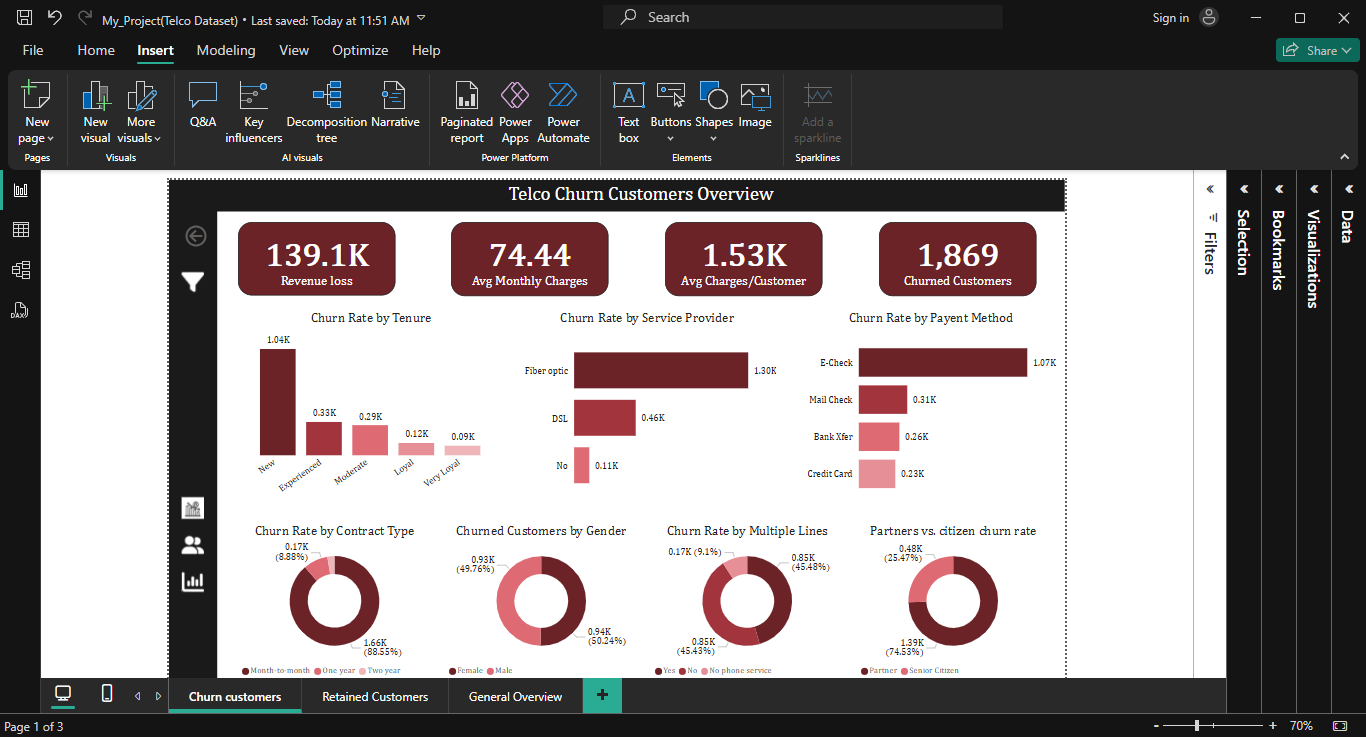

This screenshot's page, from the dashboard's own definition file:
{"tool":"powerbi","page":{"name":"Churn customers","canvas":[1280,720],"ordinal":0},"visuals":[{"type":"card","title":"Overall Charges","fields":{"Values":["Measure.Monthly Churned Revenue loss"]},"box":[97.9,60.5,225,105.1],"z":0},{"type":"actionButton","box":[0,448.6,68.6,40],"z":0,"group":"g1"},{"type":"shape","box":[0,0,68.9,720.6],"z":1000},{"type":"actionButton","box":[0,501.5,68.6,40],"z":1000,"group":"g1"},{"type":"textbox","box":[68.9,0,1211.1,45.4],"z":2000},{"type":"actionButton","box":[0,554.3,68.6,40],"z":2000,"group":"g1"},{"type":"card","title":"Overall Charges","fields":{"Values":["Measure.Total Churned Customers"]},"box":[1014.3,60,225,105.7],"z":3000},{"type":"card","title":"Overall Charges","fields":{"Values":["Measure.Avg Total Charges"]},"box":[708.8,60,225,105.7],"z":4000},{"type":"card","title":"Overall Charges","fields":{"Values":["Measure.Avg Monthly Charges"]},"box":[403.4,60,225,105.7],"z":5000},{"type":"donutChart","title":"Churn Rate by Contract Type","fields":{"Category":["Telco-Customer-Churn.Contract"],"Y":["Count(Telco-Customer-Churn.customerID)"]},"box":[98.6,491.4,275.7,228.6],"z":6000},{"type":"donutChart","title":"Partners vs. citizen churn rate","fields":{"Category":["Telco-Customer-Churn.Demographic"],"Y":["Count(Telco-Customer-Churn.customerID)"]},"box":[983.5,491,275,229],"z":7000},{"type":"clusteredBarChart","title":"Churn Rate by Service Provider","fields":{"Y":["CountNonNull(Telco-Customer-Churn.customerID)"],"Category":["Telco-Customer-Churn.InternetService"]},"box":[493.6,187.1,380,281.4],"z":8000},{"type":"donutChart","title":" Churned Customers by Gender","fields":{"Y":["Count(Telco-Customer-Churn.customerID)"],"Category":["Telco-Customer-Churn.gender"]},"box":[394,491,275,229],"z":9000},{"type":"donutChart","title":"Churn Rate  by Multiple Lines ","fields":{"Y":["Count(Telco-Customer-Churn.customerID)"],"Category":["Telco-Customer-Churn.MultipleLines"]},"box":[688.8,491,275,229],"z":10000},{"type":"clusteredColumnChart","title":"Churn Rate  by Tenure","fields":{"Category":["Telco-Customer-Churn.Tenure Group"],"Y":["Count(Telco-Customer-Churn.customerID)"]},"box":[98.6,187.1,380,281.4],"z":11000},{"type":"clusteredBarChart","title":"Churn Rate by Payent Method","fields":{"Y":["CountNonNull(Telco-Customer-Churn.customerID)"],"Category":["Telco-Customer-Churn.AbbreviatedPayment"]},"box":[898.6,187.1,380,281.4],"z":12000},{"type":"actionButton","box":[18.6,60,50,40],"z":13000},{"type":"actionButton","box":[0,125.7,68.6,40],"z":14000},{"type":"group","id":"g1","title":"Page Navigation","box":[0,448.6,68.6,145.7],"z":15000}]}

Visuals, with their boxes on the page's 1280x720 design canvas (x1, y1, x2, y2). These are canvas units, not pixel positions in the 1366x737 screenshot, which may show the page scaled, cropped or inside an application window:
"Overall Charges" card: {"left": 98, "top": 60, "right": 323, "bottom": 166}
actionButton: {"left": 0, "top": 449, "right": 69, "bottom": 489}
shape: {"left": 0, "top": 0, "right": 69, "bottom": 721}
actionButton: {"left": 0, "top": 502, "right": 69, "bottom": 542}
textbox: {"left": 69, "top": 0, "right": 1280, "bottom": 45}
actionButton: {"left": 0, "top": 554, "right": 69, "bottom": 594}
"Overall Charges" card: {"left": 1014, "top": 60, "right": 1239, "bottom": 166}
"Overall Charges" card: {"left": 709, "top": 60, "right": 934, "bottom": 166}
"Overall Charges" card: {"left": 403, "top": 60, "right": 628, "bottom": 166}
"Churn Rate by Contract Type" donutChart: {"left": 99, "top": 491, "right": 374, "bottom": 720}
"Partners vs. citizen churn rate" donutChart: {"left": 984, "top": 491, "right": 1258, "bottom": 720}
"Churn Rate by Service Provider" clusteredBarChart: {"left": 494, "top": 187, "right": 874, "bottom": 468}
" Churned Customers by Gender" donutChart: {"left": 394, "top": 491, "right": 669, "bottom": 720}
"Churn Rate  by Multiple Lines " donutChart: {"left": 689, "top": 491, "right": 964, "bottom": 720}
"Churn Rate  by Tenure" clusteredColumnChart: {"left": 99, "top": 187, "right": 479, "bottom": 468}
"Churn Rate by Payent Method" clusteredBarChart: {"left": 899, "top": 187, "right": 1279, "bottom": 468}
actionButton: {"left": 19, "top": 60, "right": 69, "bottom": 100}
actionButton: {"left": 0, "top": 126, "right": 69, "bottom": 166}
"Page Navigation" group: {"left": 0, "top": 449, "right": 69, "bottom": 594}
